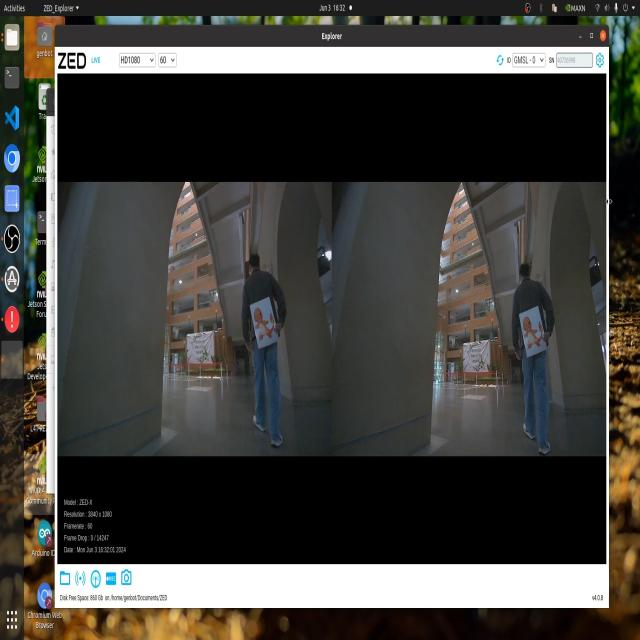red: (520, 296, 544, 356), (250, 296, 278, 344)
